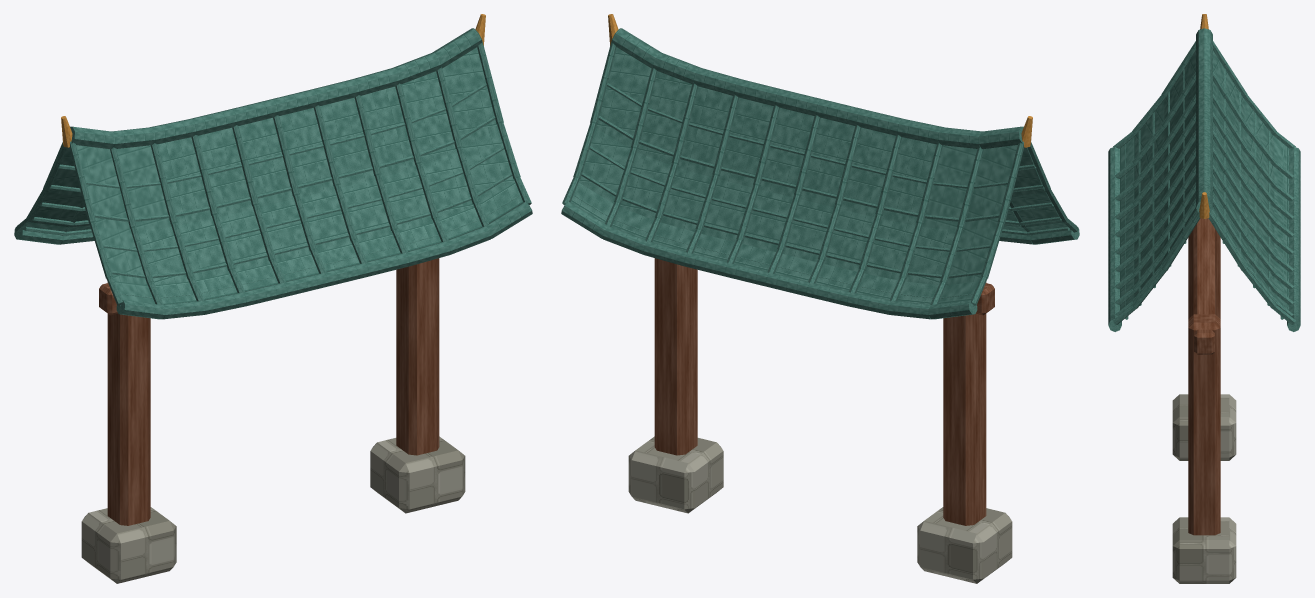
File: forest_gate.gltf
3 renders of one model, left to right at view 1: azimuth 30°, elevation 25°; view 2: azimuth 150°, elevation 25°; view 3: azimuth 270°, elevation 25°, orthographic. The views are drawn at different scales.
Visible parts, largest first — view 1: forest_gate; view 2: forest_gate; view 3: forest_gate.
Boxes of the visible parts, box(x1,y1,x2,y2) form: forest_gate: box(14, 14, 532, 583); forest_gate: box(561, 14, 1079, 583); forest_gate: box(1108, 14, 1300, 583).
Bounding box in the file's own units: 6.35 × 6.67 × 2.85.
Materials: 4 (4 with a texture image).
